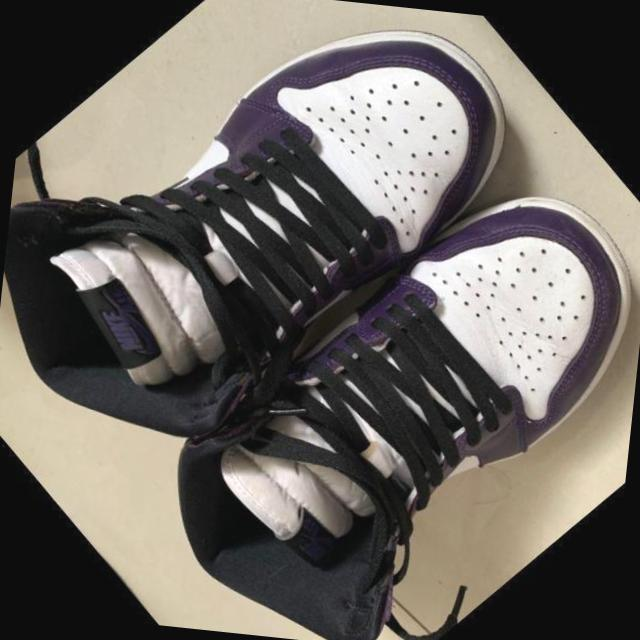nike_original_jordan: (0, 0, 563, 531), (121, 109, 640, 640)
